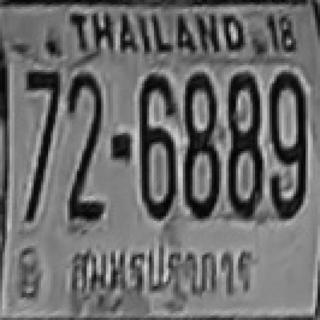N00: (267, 70, 306, 160), (138, 124, 174, 219), (66, 72, 102, 158), (183, 139, 219, 217), (226, 141, 262, 218), (227, 71, 261, 136), (183, 71, 217, 136)
N07: (24, 70, 60, 149)
P57: (57, 238, 270, 307)
